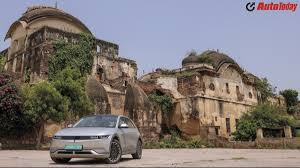Honda Ioniq: (45, 112, 145, 168)
